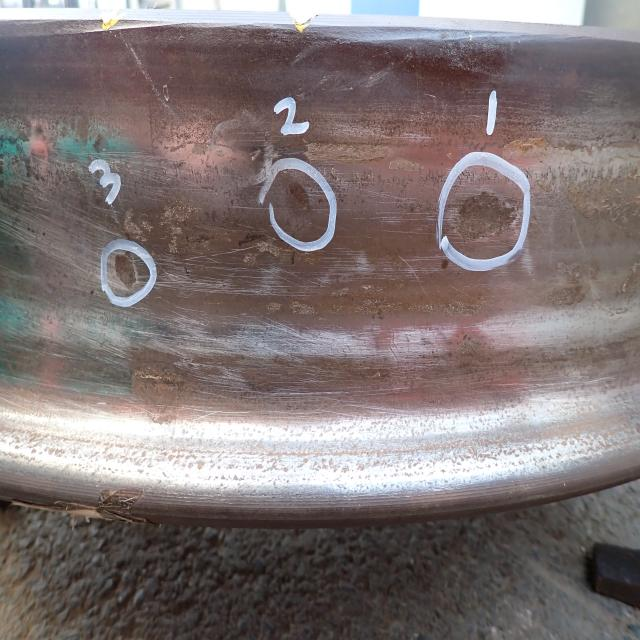geshang: (459, 190, 517, 242), (281, 182, 315, 225), (112, 251, 138, 288)
